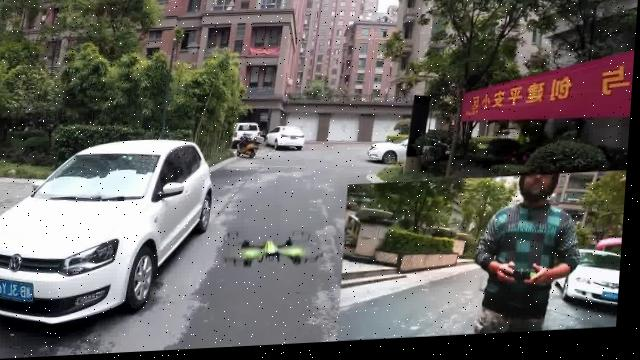drone: (218, 219, 330, 282)
